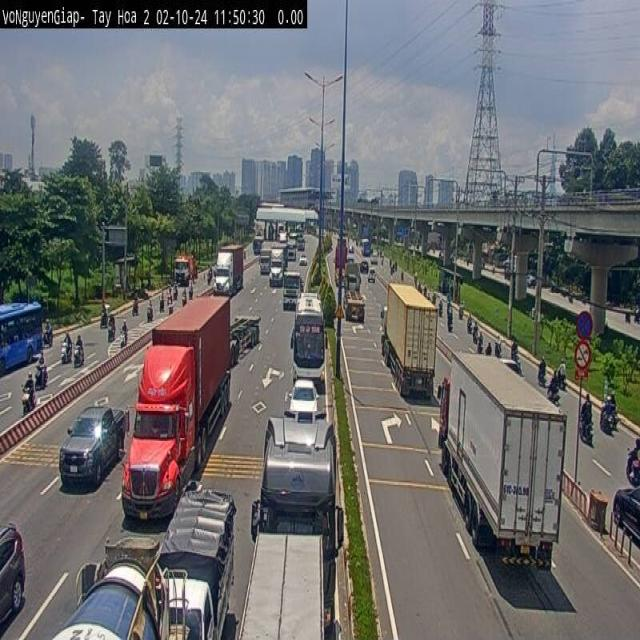bus: (0, 300, 43, 374)
container-truck: (121, 292, 231, 522), (380, 282, 438, 398)
truck: (438, 350, 568, 569)
